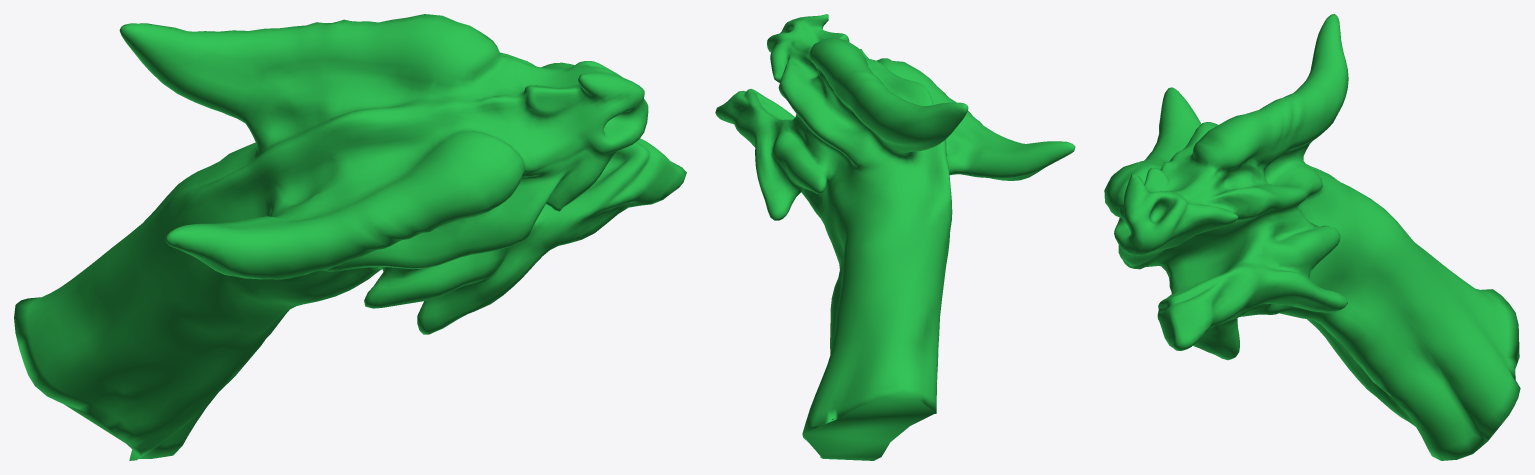
Rendered from Dragon_Cabeza_LU.obj.
3 renders of one model, left to right at view 1: azimuth 30°, elevation 25°; view 2: azimuth 150°, elevation 25°; view 3: azimuth 270°, elevation 25°, orthographic. The views are drawn at different scales.
Parts seen in each view (by area): view 1: Dragon_Cabeza_LU; view 2: Dragon_Cabeza_LU; view 3: Dragon_Cabeza_LU.
Boxes of the visible parts, x1,y1,x2,y2 form: Dragon_Cabeza_LU: [14, 14, 686, 460]; Dragon_Cabeza_LU: [715, 14, 1075, 460]; Dragon_Cabeza_LU: [1104, 14, 1520, 460].
Size of the model in its own units: 2.2 by 2.01 by 1.9.
